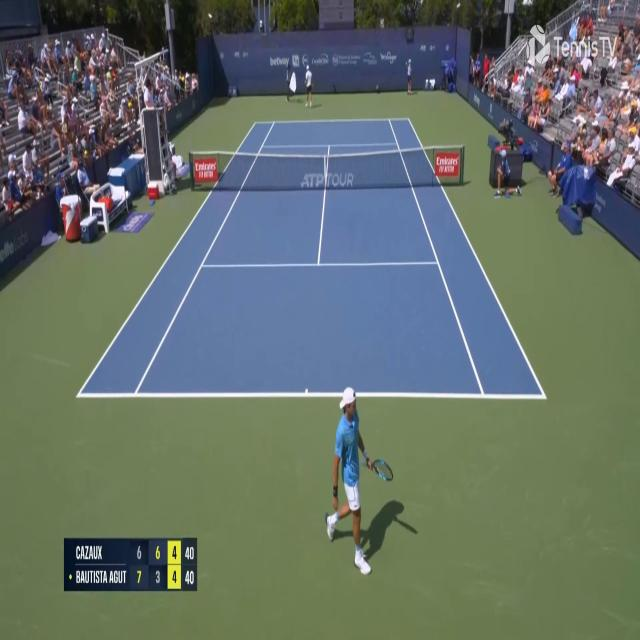tennis-player: (325, 380, 395, 578), (304, 65, 315, 109)
